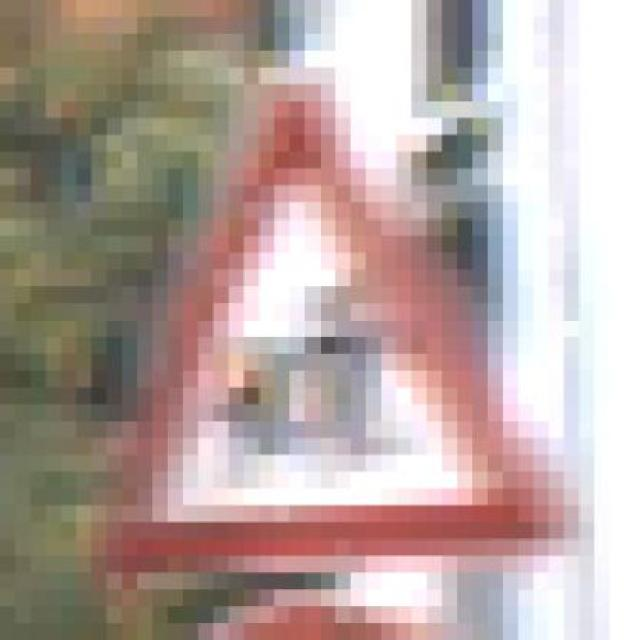Beware of children: (76, 50, 579, 573)
